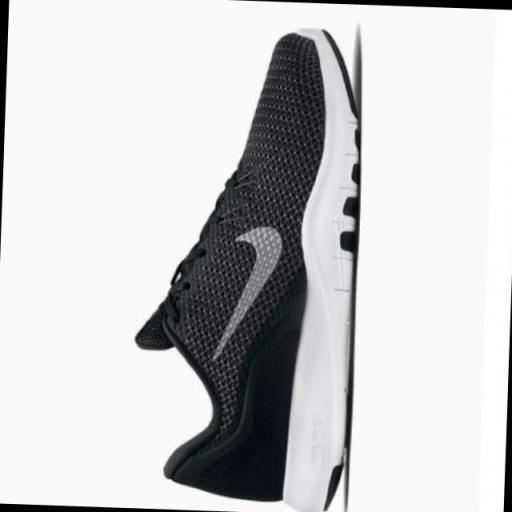Nike: (200, 210, 290, 373)
